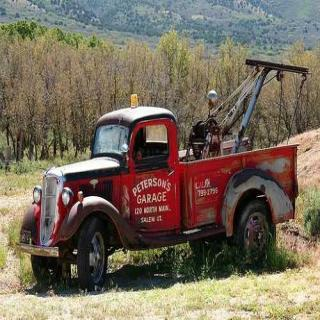Towing_truck: (15, 55, 309, 293)
